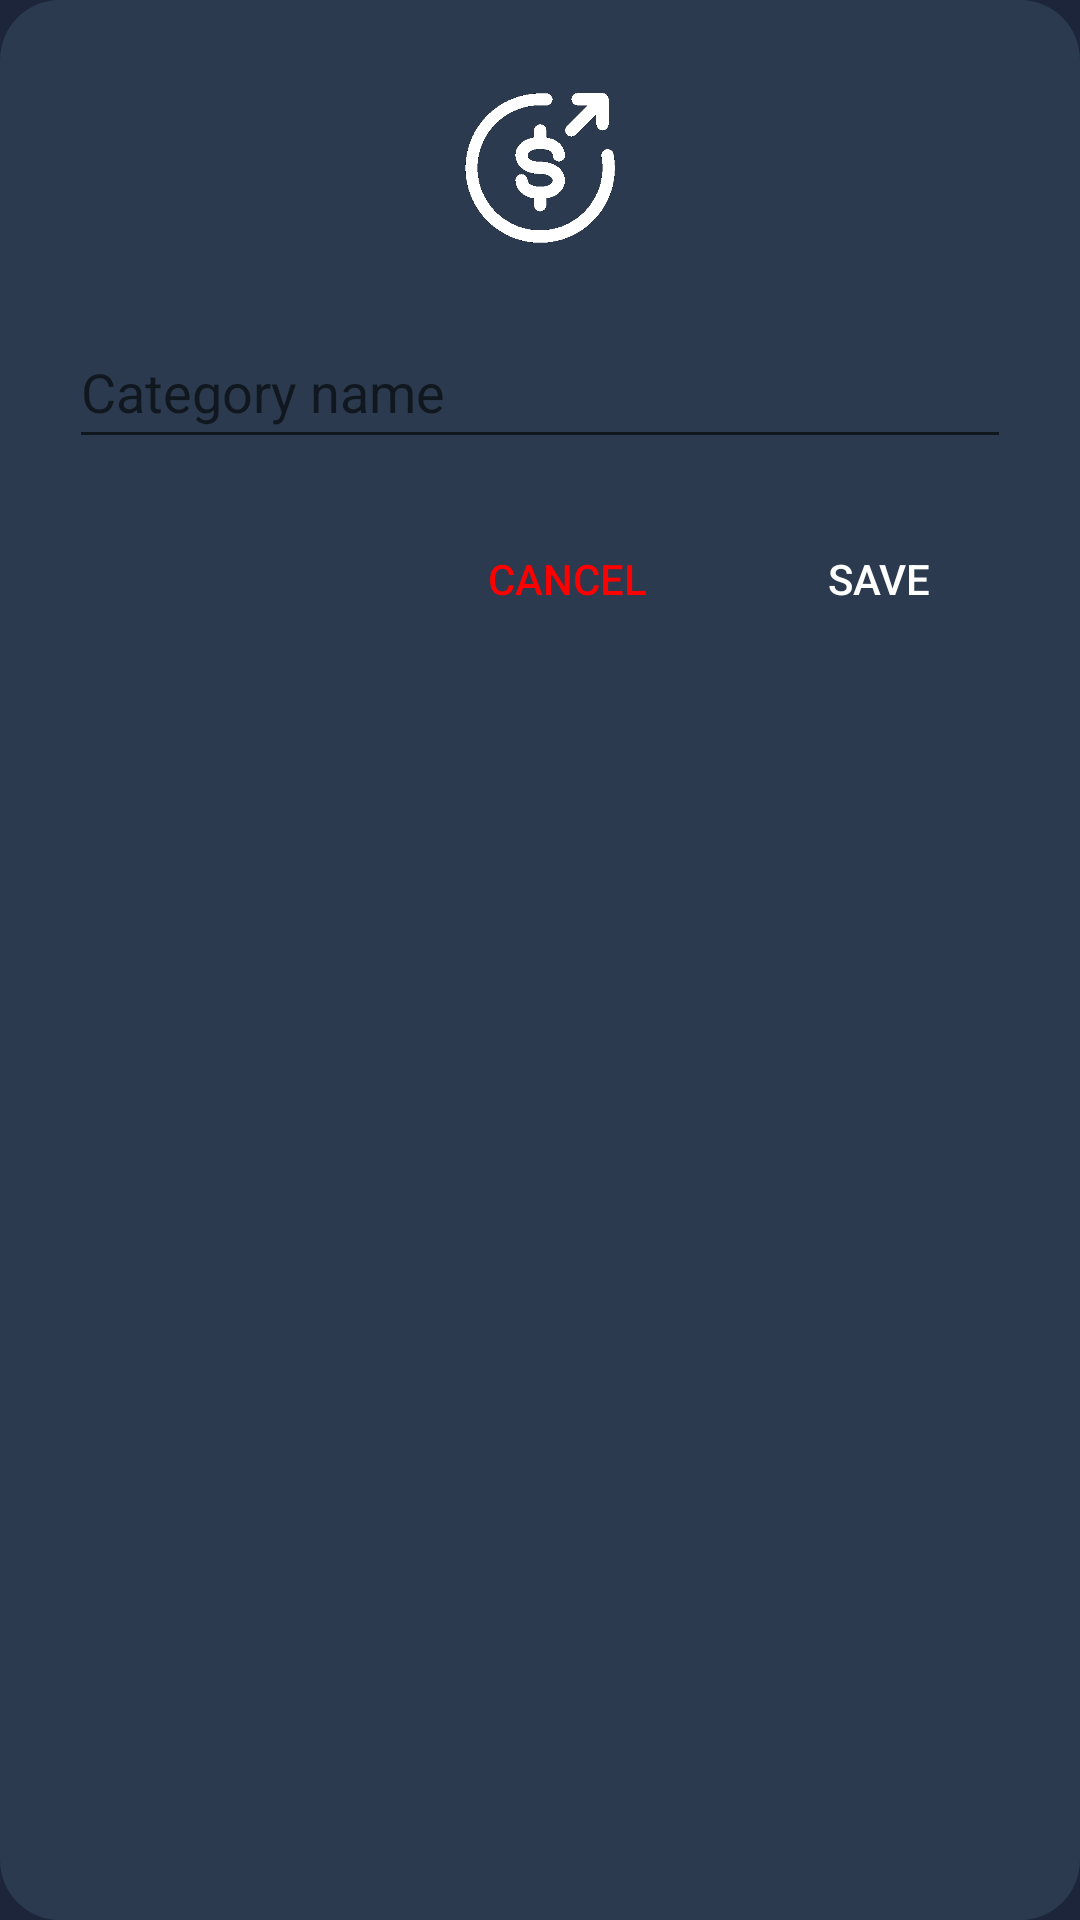

Where icons sit on this 1080×1920 app screen, as (x1, y1, x2, y2):
income: (465, 93, 615, 243)
